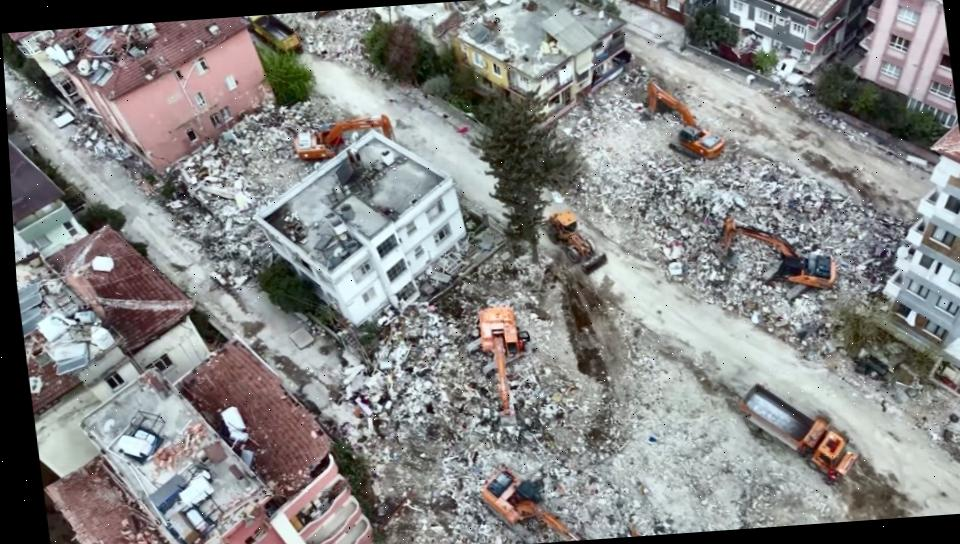kapali: (252, 312, 528, 544)
